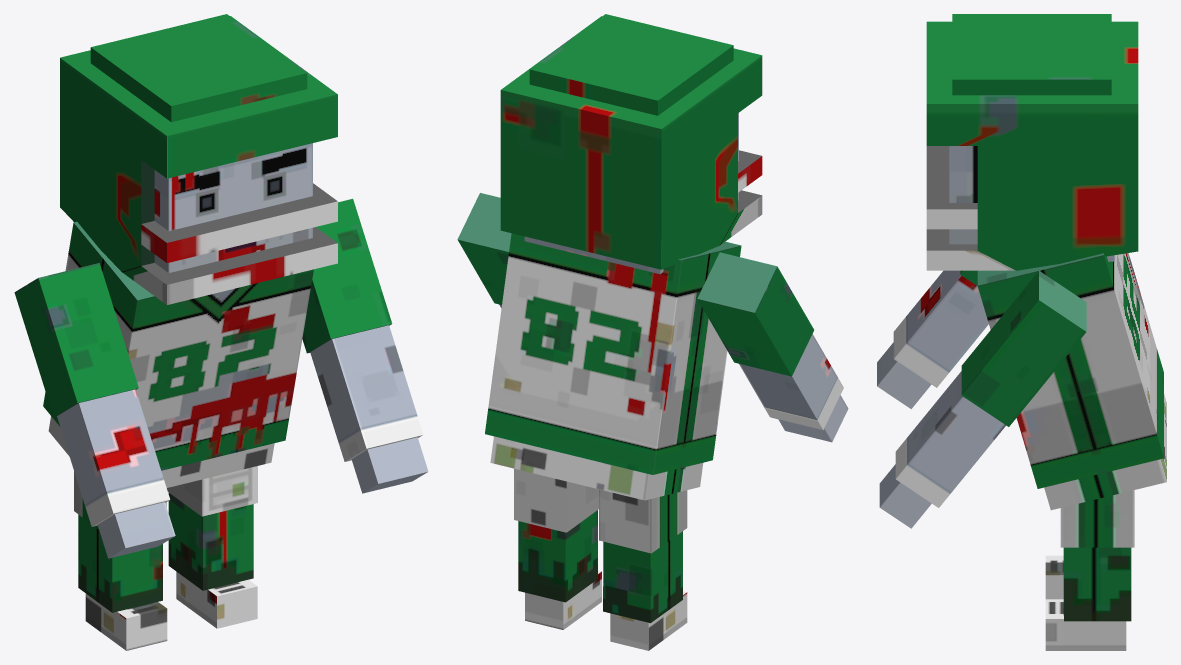
The model's file is zombie_run_fire_parts.glb.
3 views of the same model, side by side, from view 1: azimuth 30°, elevation 25°; view 2: azimuth 150°, elevation 25°; view 3: azimuth 270°, elevation 25° (orthographic). The views are drawn at different scales.
Parts seen in each view (by area): view 1: part_head_football, part_body, part_hand_right, part_hand_left, part_leg_left, part_leg_right; view 2: part_head_football, part_body, part_hand_right, part_leg_right, part_leg_left, part_hand_left; view 3: part_head_football, part_body, part_hand_left, part_leg_left, part_hand_right, part_leg_right.
Part boxes in pixels (x1,y1,x2,y2): part_head_football: (60, 14, 337, 304); part_body: (43, 221, 313, 487); part_hand_right: (14, 263, 175, 558); part_hand_left: (302, 198, 428, 493); part_leg_left: (167, 466, 257, 628); part_leg_right: (74, 471, 167, 650); part_head_football: (500, 14, 762, 274); part_body: (485, 233, 741, 500); part_hand_right: (697, 252, 848, 442); part_leg_right: (599, 489, 687, 650); part_leg_left: (514, 468, 601, 629); part_hand_left: (457, 193, 511, 308); part_head_football: (926, 14, 1138, 270); part_body: (977, 253, 1166, 510); part_hand_left: (879, 270, 1086, 528); part_leg_left: (1045, 490, 1134, 650); part_hand_right: (877, 270, 988, 409); part_leg_right: (1045, 555, 1063, 599).
Size of the model in its own units: 1.55 by 2.72 by 1.25.
1 material, 1 textured.
